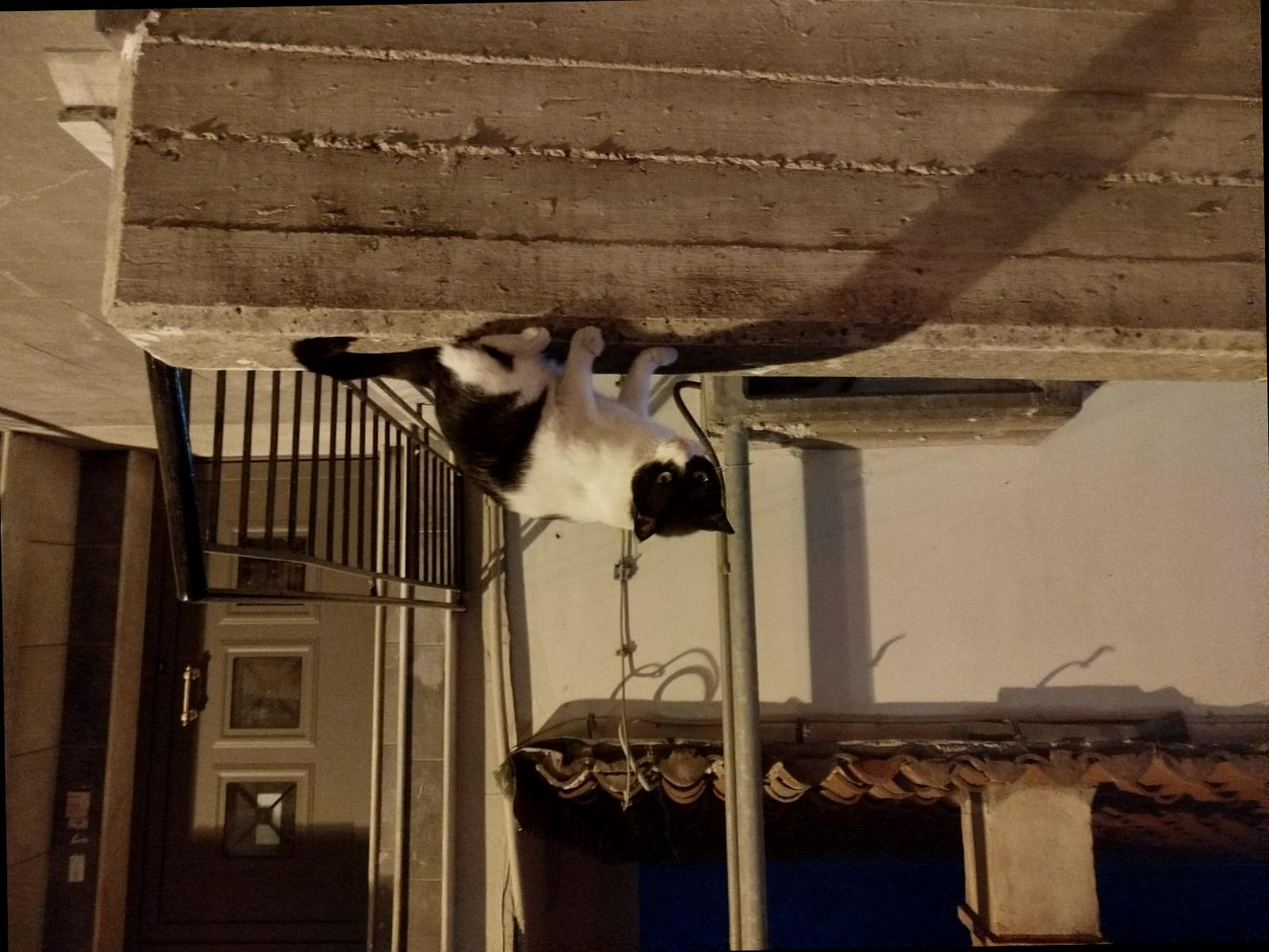macka: (293, 322, 735, 547)
